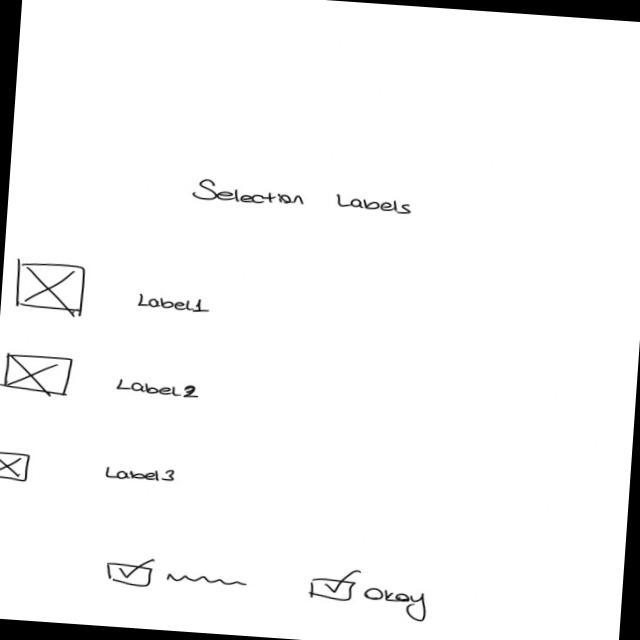checkbox: (304, 565, 432, 624), (103, 556, 250, 596)
image: (10, 258, 89, 316), (1, 350, 74, 398), (0, 449, 33, 484)
label: (189, 176, 415, 217), (114, 376, 202, 401), (133, 291, 213, 315), (102, 462, 177, 484)
